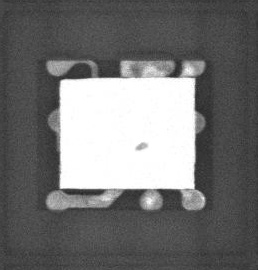DIE_INK: (128, 148, 142, 159)
